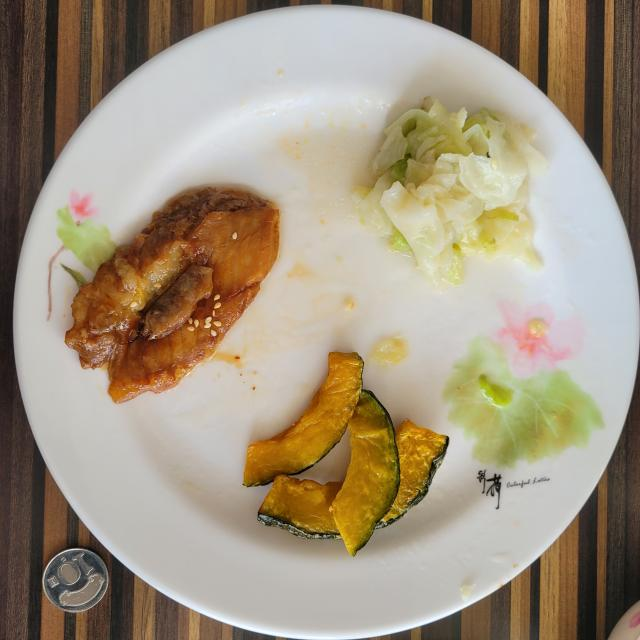Kabayaki sea bream fillet: (65, 188, 279, 402)
cabbage: (356, 98, 549, 285)
coin: (42, 549, 109, 612)
pumpkin: (259, 390, 449, 556), (244, 351, 364, 486)
